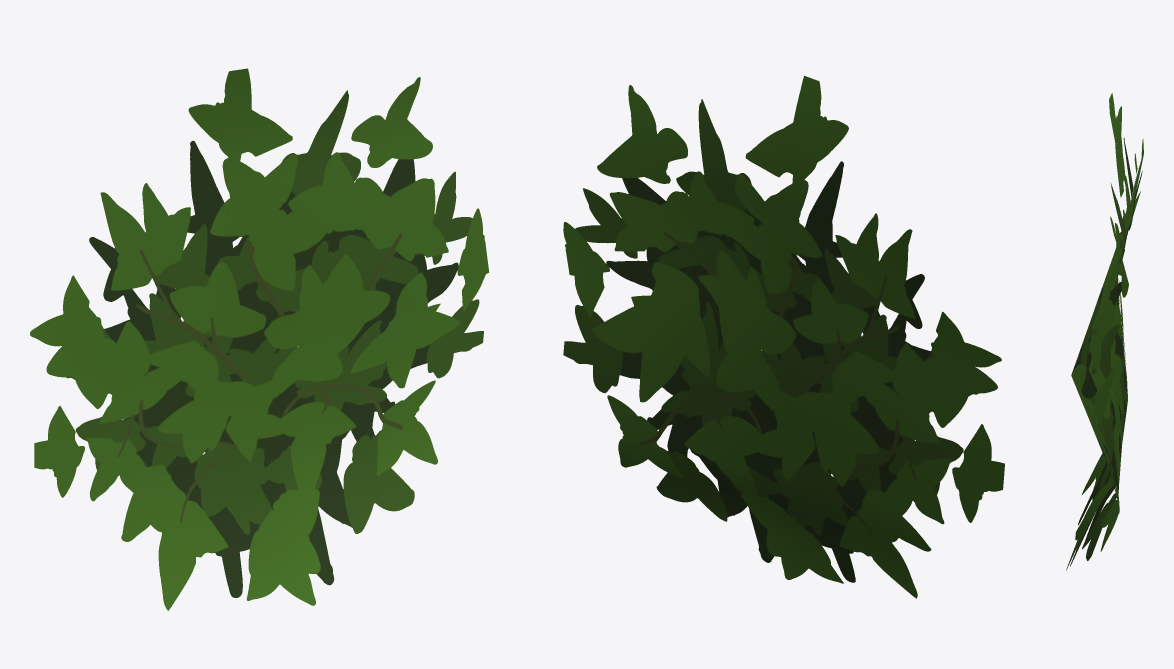
The model's file is SM_Vine04.FBX.
3 renders of one model, left to right at view 1: azimuth 30°, elevation 25°; view 2: azimuth 150°, elevation 25°; view 3: azimuth 270°, elevation 25°, orthographic. The views are drawn at different scales.
Visible parts, largest first — view 1: Plane003; view 2: Plane003; view 3: Plane003.
Part boxes in pixels (<box>): Plane003: <box>30,68,489,610</box>; Plane003: <box>563,75,1004,598</box>; Plane003: <box>1066,93,1143,570</box>.
Size of the model in its own units: 68.05 by 79.13 by 17.49.
1 material, 1 textured.
